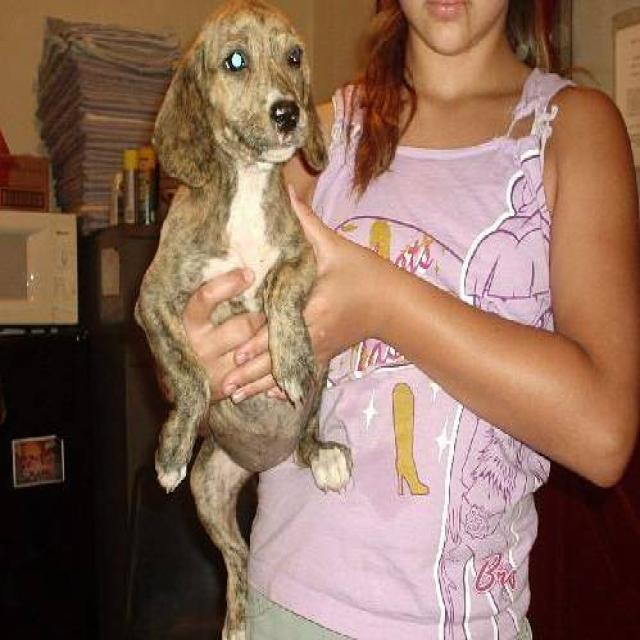dog: (132, 0, 353, 637)
